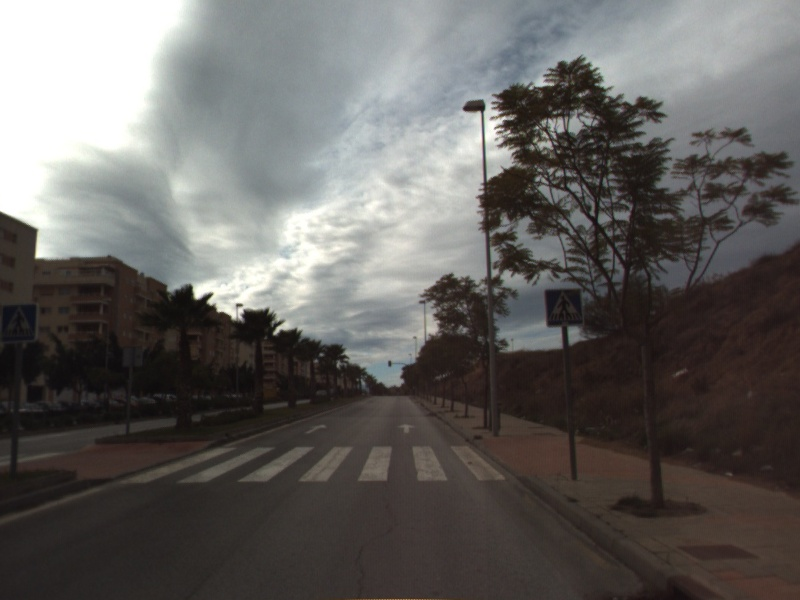STRAIGHT: (303, 422, 329, 435), (395, 422, 417, 435)
